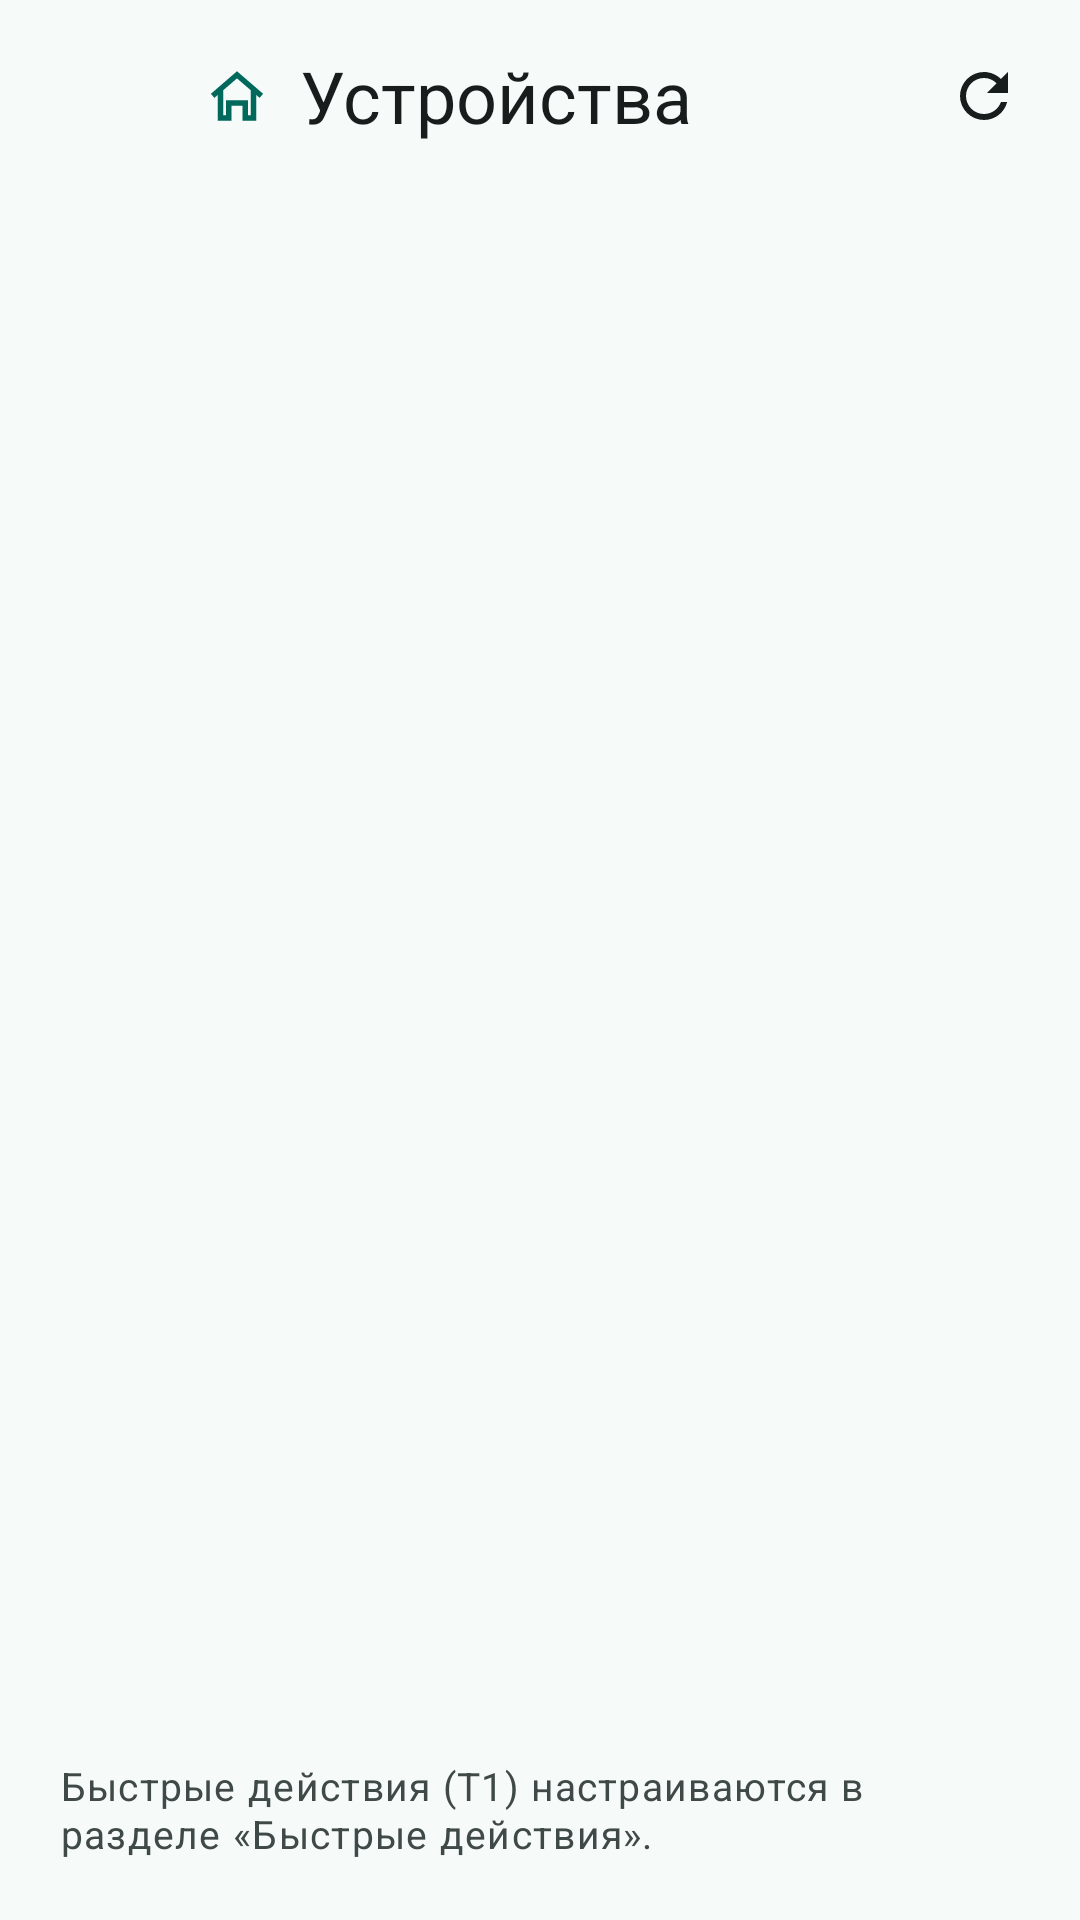

Where icons sit on this 1080*1920 app screen, as region(x1, y1, x2, y2):
Обновить: region(960, 72, 1008, 120)
